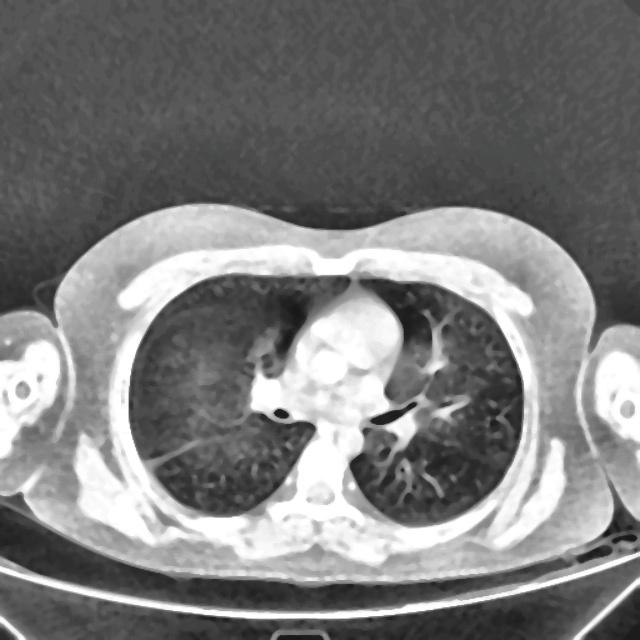covid: (1, 201, 638, 586)
